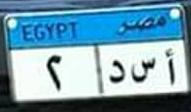2: (44, 56, 69, 91)
alif: (162, 44, 178, 87)
daal: (107, 54, 126, 86)
seen: (128, 52, 158, 87)
